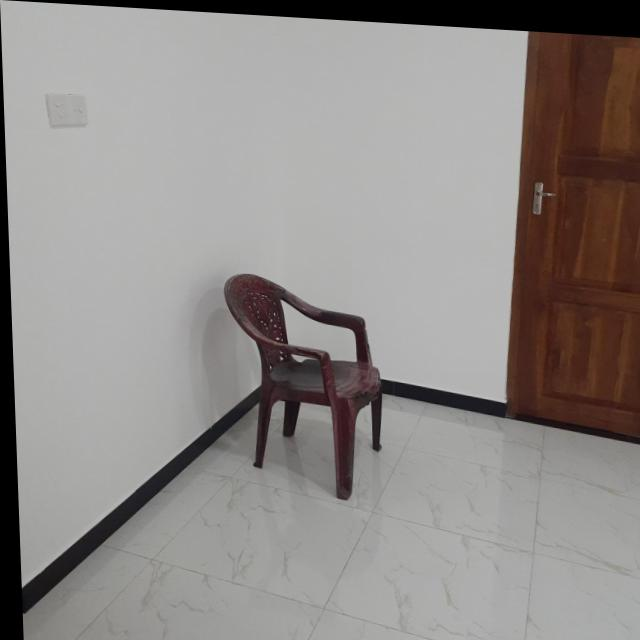Chair: (224, 268, 384, 500)
